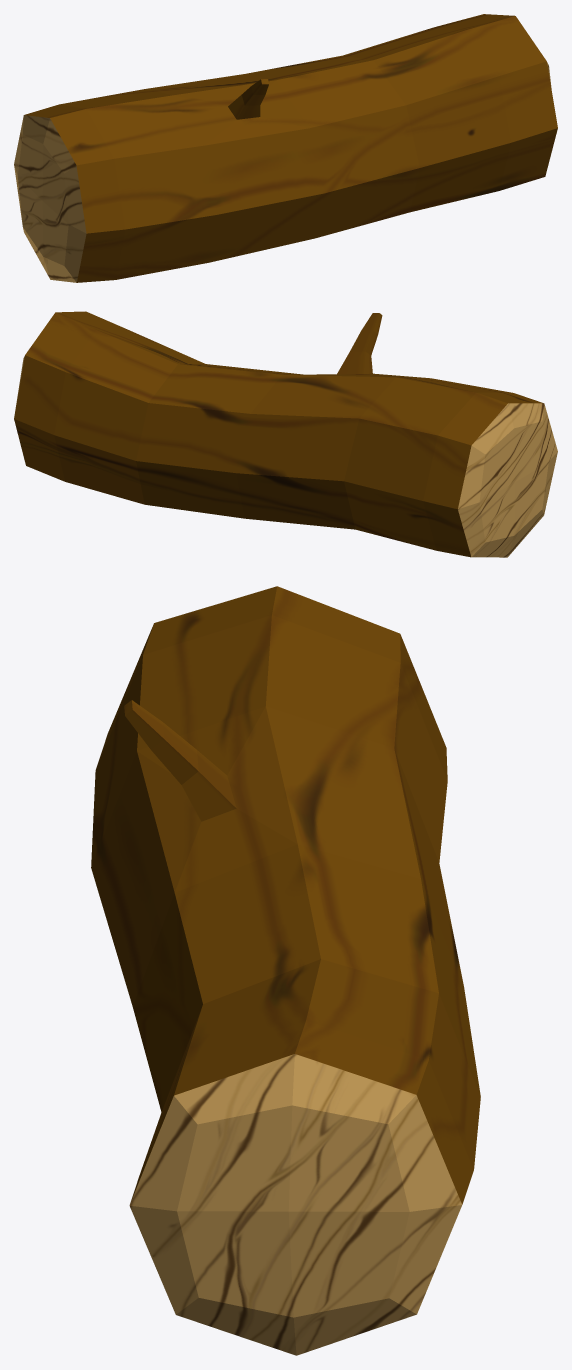
File: coisa para a fogueira.fbx_tora_2.fbx
3 views of the same model, one above another, from view 1: azimuth 30°, elevation 25°; view 2: azimuth 150°, elevation 25°; view 3: azimuth 270°, elevation 25° (orthographic). The views are drawn at different scales.
Visible parts, largest first — view 1: tora 02; view 2: tora 02; view 3: tora 02.
Part boxes in pixels (left/top/right/bottom): tora 02: left=14, top=14, right=557, bottom=282; tora 02: left=14, top=311, right=557, bottom=557; tora 02: left=91, top=586, right=480, bottom=1355.
Size of the model in its own units: 530 by 211 by 189.
